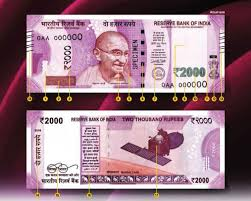twoThousand: (35, 27, 218, 84)
